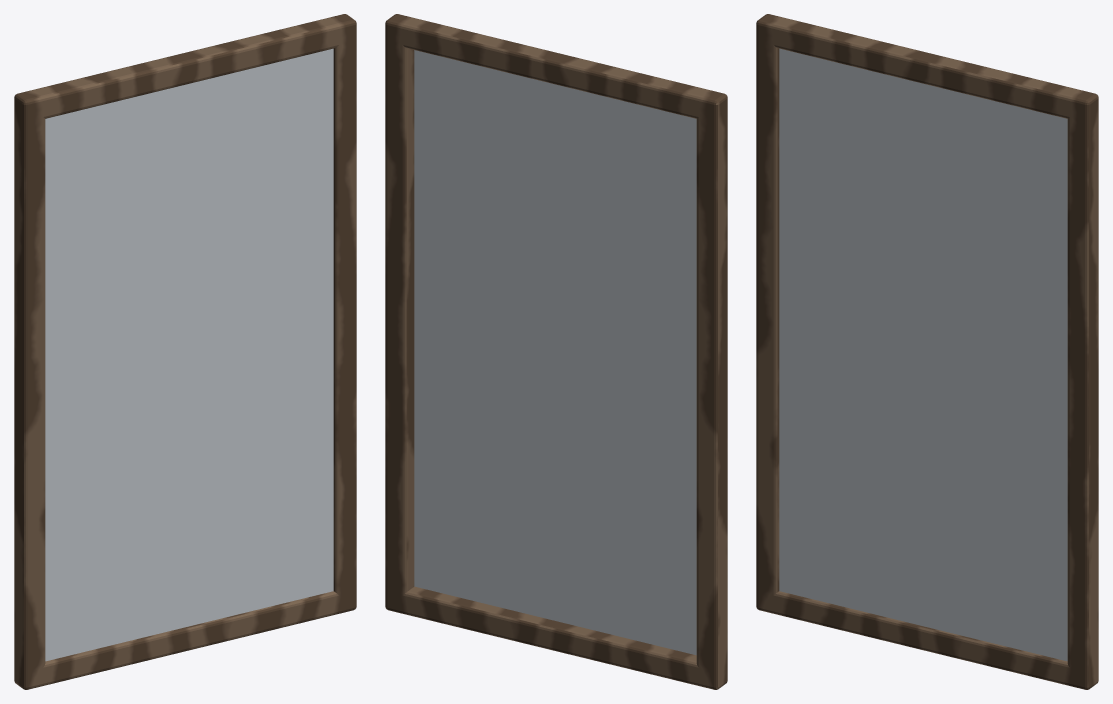
File: PRP_Mirror.fbx
3 views of the same model, side by side, from view 1: azimuth 30°, elevation 25°; view 2: azimuth 150°, elevation 25°; view 3: azimuth 330°, elevation 25° (orthographic).
Visible parts, largest first — view 1: Mirror_Plane, Mirror_Frame; view 2: Mirror_Plane, Mirror_Frame; view 3: Mirror_Plane, Mirror_Frame.
Boxes of the visible parts, <box> form: Mirror_Plane: <box>45,48,333,661</box>; Mirror_Frame: <box>14,14,356,689</box>; Mirror_Plane: <box>414,50,696,655</box>; Mirror_Frame: <box>385,14,727,689</box>; Mirror_Plane: <box>779,48,1067,661</box>; Mirror_Frame: <box>756,14,1098,689</box>.
Size of the model in its own units: 74 by 125 by 4.5.
